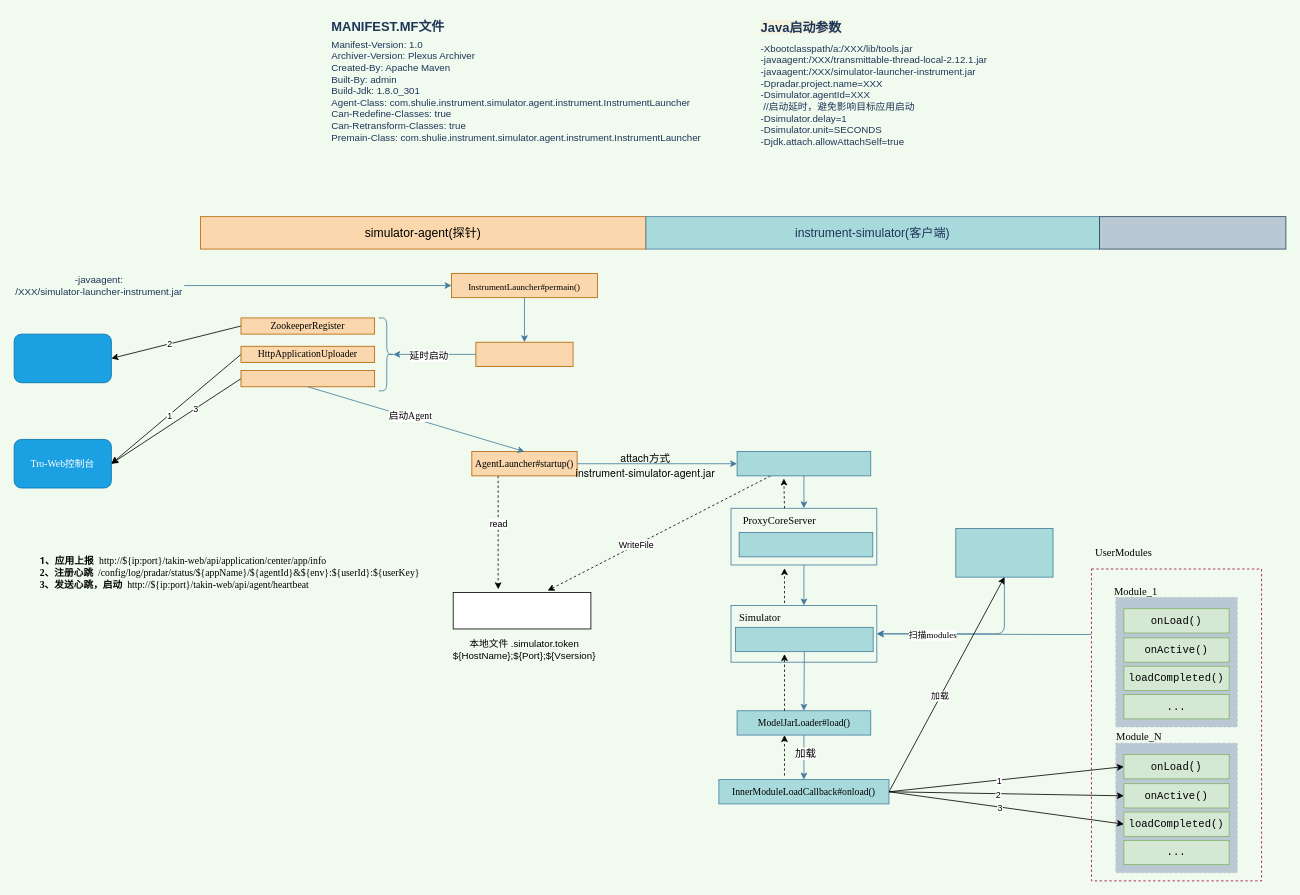
The diagram is 1300 pixels wide and 895 high, and some of its shapes have lost their labels. Each missing label, with the centre of its shape:
"AgentLauncher#agentmain()" goes at point 803,463.
"AgentScheduler(Agent调度器)" goes at point 307,378.
"CoreLauncher#start()" goes at point 524,354.
"DefaultCoreModuleManager#reset" goes at point 804,639.
"instrument-modules(扩展模块)" goes at point 1192,232.
"JettyCoreServer#bind" goes at point 805,544.
"localhost;57389;5.3.0.0" goes at point 521,610.
"SystemModules" goes at point 1004,552.
"ZK注册中心" goes at point 62,358.
